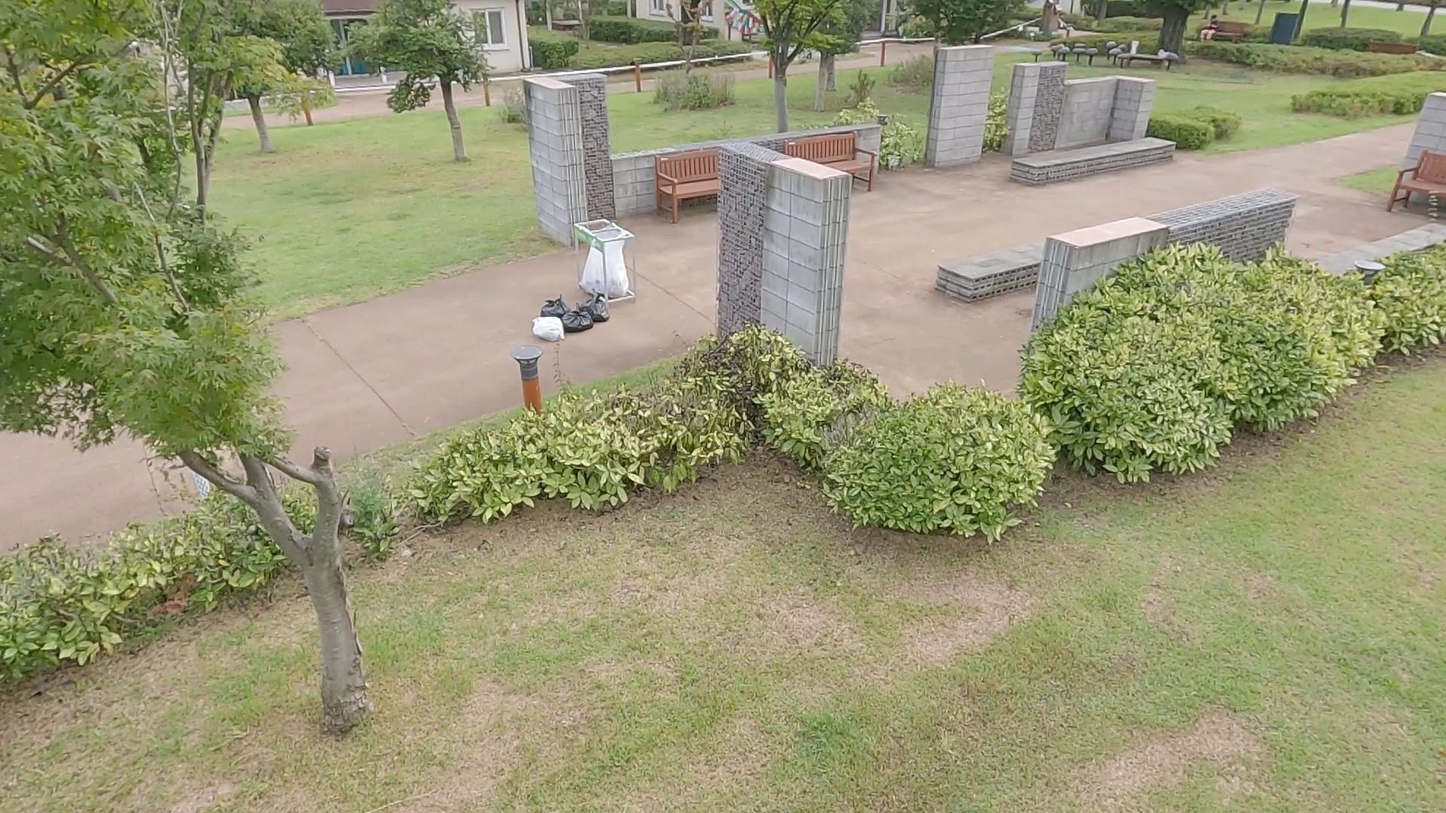trash: (530, 314, 567, 344), (562, 302, 594, 334), (579, 294, 611, 322), (539, 294, 571, 322)
